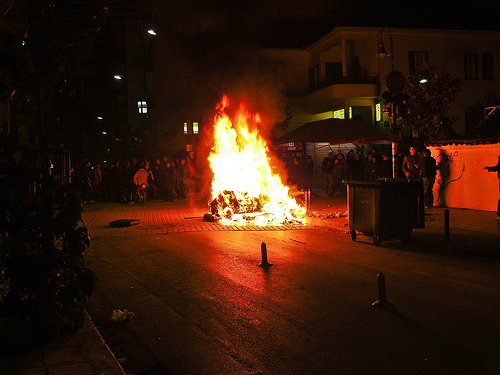fire: (198, 112, 314, 230)
